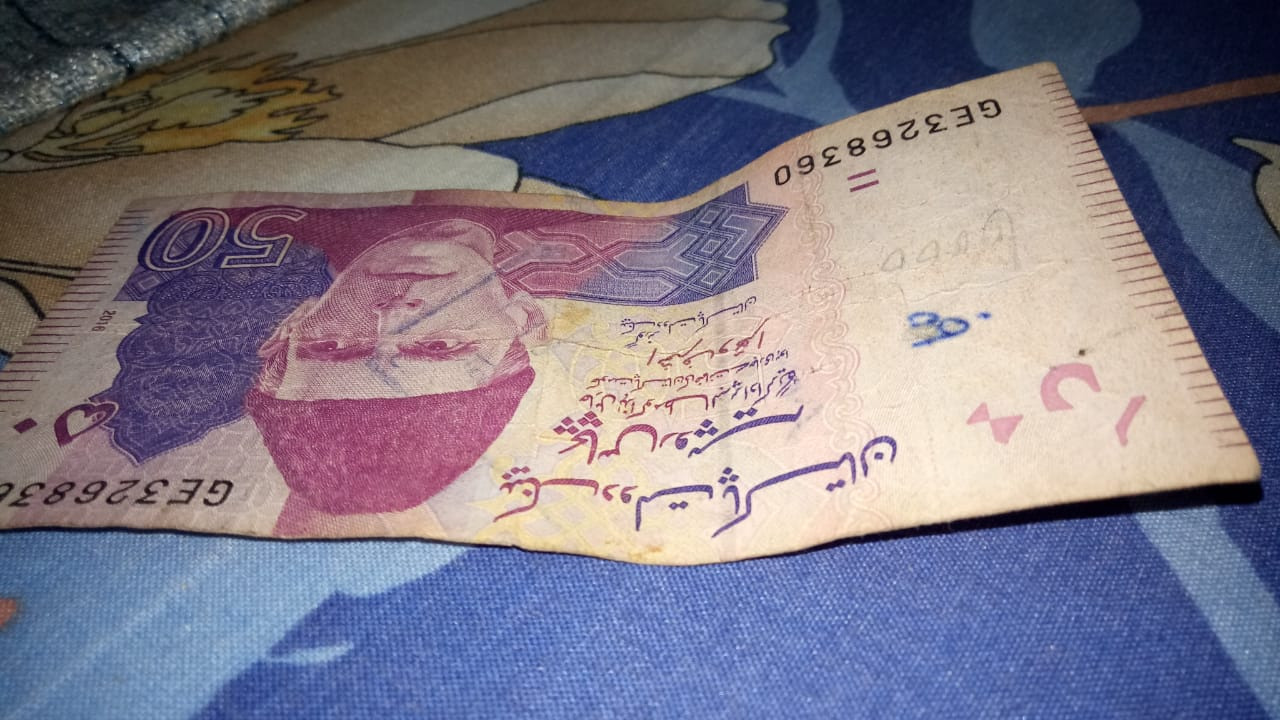50 rupee: (0, 43, 1257, 609)
